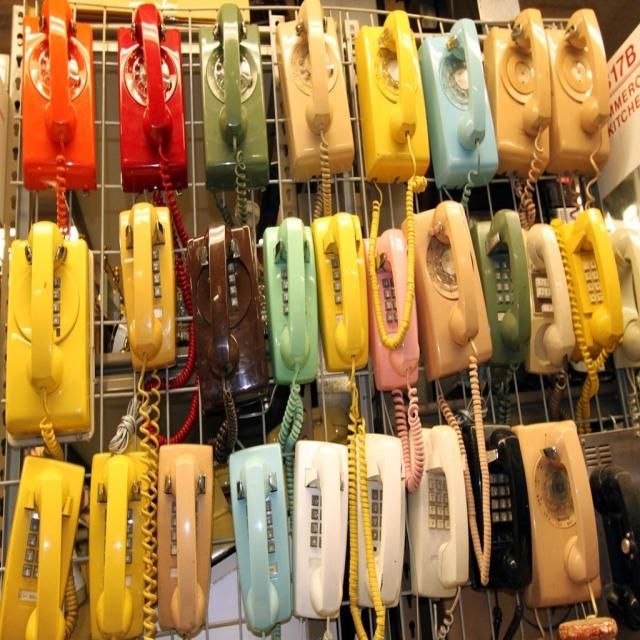E-waste: (1, 0, 636, 640)
